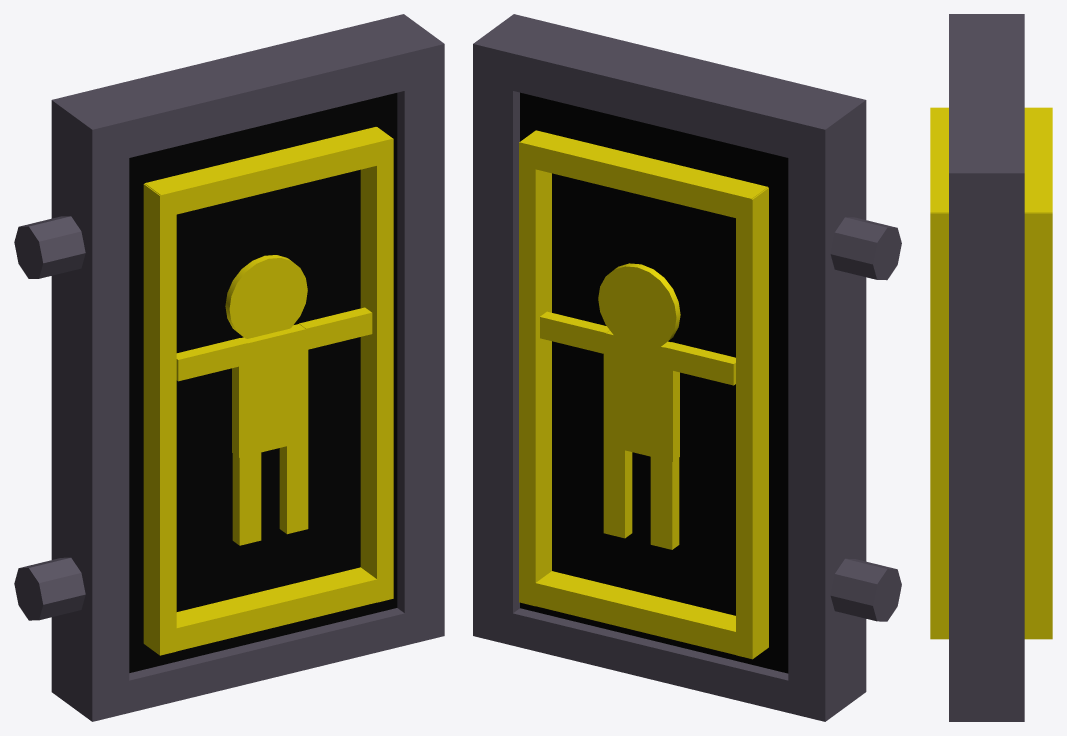
File: Neon_person_rectangle.fbx
3 renders of one model, left to right at view 1: azimuth 30°, elevation 25°; view 2: azimuth 150°, elevation 25°; view 3: azimuth 270°, elevation 25°, orthographic. The views are drawn at different scales.
Parts seen in each view (by area): view 1: NeonSign_Rectangle4, Neon_person_rectangle; view 2: NeonSign_Rectangle4, Neon_person_rectangle; view 3: NeonSign_Rectangle4, Neon_person_rectangle.
Part boxes in pixels (x1,y1,x2,y2): NeonSign_Rectangle4: [14, 14, 444, 721]; Neon_person_rectangle: [143, 127, 393, 655]; NeonSign_Rectangle4: [473, 14, 901, 721]; Neon_person_rectangle: [519, 130, 768, 659]; NeonSign_Rectangle4: [949, 14, 1024, 721]; Neon_person_rectangle: [930, 107, 1052, 639].
Bounding box in the file's own units: 1.12 × 1.61 × 0.3242.
